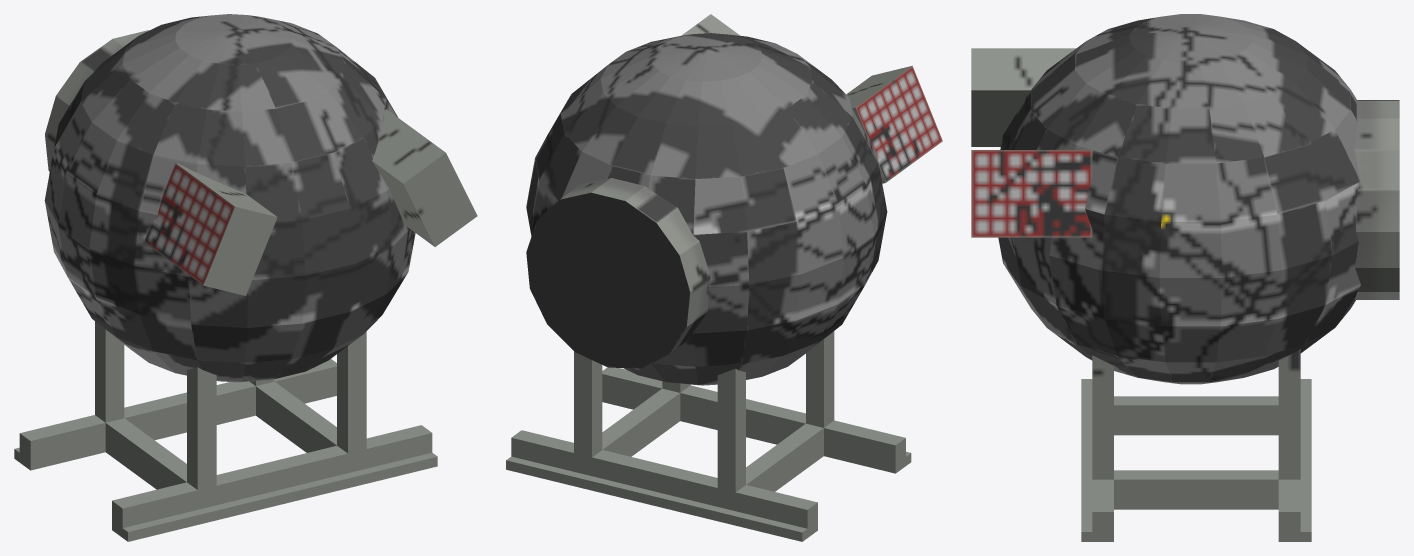
The model's file is the_gadget.obj.
The picture shows the model from 3 angles, left to right: view 1: azimuth 30°, elevation 25°; view 2: azimuth 150°, elevation 25°; view 3: azimuth 270°, elevation 25°; orthographic projection. The views are drawn at different scales.
Visible parts, largest first — view 1: cube; view 2: cube; view 3: cube.
Part boxes in pixels (x1,y1,x2,y2): cube: [14, 14, 477, 541]; cube: [506, 14, 942, 541]; cube: [971, 14, 1399, 541].
Size of the model in its own units: 2.12 by 2.75 by 2.44.
